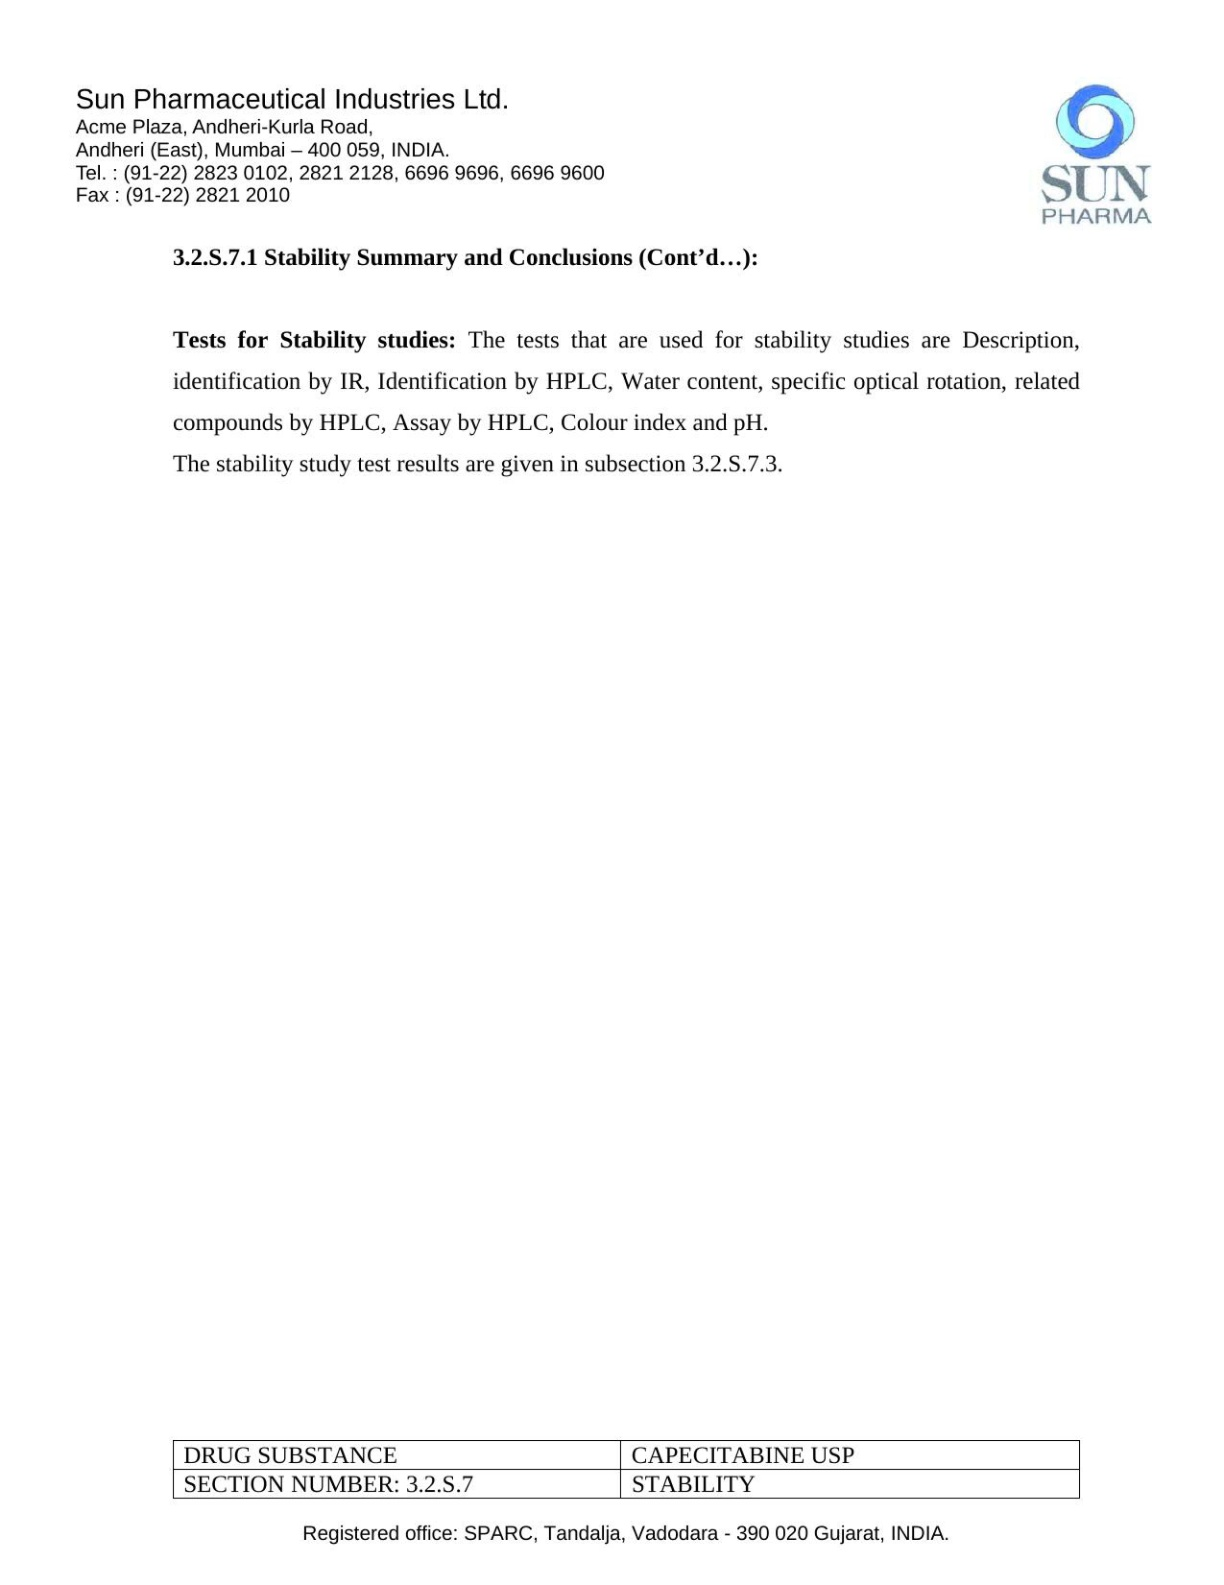full_lined: (174, 1440, 1080, 1499)
